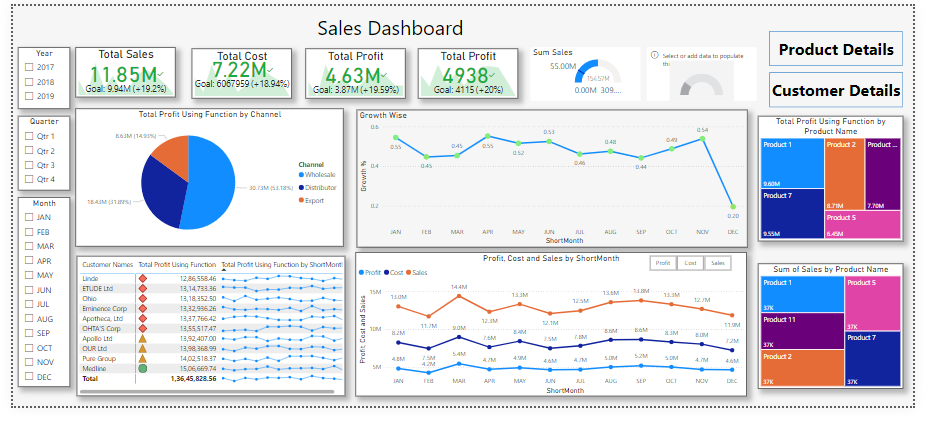

Layout of this report page (visuals, bound fields, positions):
{"tool":"powerbi","page":{"name":"Page 5","canvas":[1800,800],"ordinal":5},"visuals":[{"type":"shape","box":[10.1,0,1489.5,82.8],"z":0},{"type":"slicer","title":"Year","fields":{"Values":["Dates.Date.Variation.Date Hierarchy.Year"]},"box":[9.8,82.9,103.9,123.6],"z":1000},{"type":"slicer","title":"Quarter","fields":{"Values":["Dates.Date.Variation.Date Hierarchy.Quarter"]},"box":[10,219,104,149],"z":2000},{"type":"slicer","title":"Month","fields":{"Values":["Dates.ShortMonth"]},"box":[10,382,104,379],"z":3000},{"type":"lineChart","title":"Growth Wise","fields":{"Category":["Dates.ShortMonth"],"Y":["Sales_Data.Growth %"]},"box":[686.7,208.3,781.7,275],"z":4000},{"type":"kpi","title":"Total Profit","fields":{"Indicator":["Sales_Data.Total Profit Using Function"],"TrendLine":["Dates.ShortMonth"],"Goal":["Sales_Data.LY(Profit)"]},"box":[586,84,200,100],"z":5000},{"type":"kpi","title":"Total Sales","fields":{"TrendLine":["Dates.ShortMonth"],"Goal":["Sales_Data.LY(Sales)"],"Indicator":["Sales_Data.Total Sales"]},"box":[126,82,200,100],"z":6000},{"type":"kpi","title":"Total Cost","fields":{"TrendLine":["Dates.ShortMonth"],"Indicator":["Sales_Data.Total Cost"],"Goal":["Sales_Data.LY(Cost)"]},"box":[358,84,200,100],"z":7000},{"type":"kpi","title":"Total Profit","fields":{"TrendLine":["Dates.ShortMonth"],"Indicator":["Sales_Data.Order Quantity"],"Goal":["Sales_Data.LY(Quantity)"]},"box":[810,84,200,100],"z":8000},{"type":"pieChart","fields":{"Y":["Sales_Data.Total Profit Using Function"],"Category":["Sales_Data.Channel"]},"box":[126,206,536,276],"z":9000},{"type":"pivotTable","fields":{"Rows":["Customer_Data.Customer Names"],"Values":["Sales_Data.Total Profit Using Function","SparklineData(Sales_Data.Total Profit Using Function_[Dates.ShortMonth])"]},"box":[126.7,500,536.7,280],"z":10000},{"type":"shape","box":[1512.5,132.5,267.5,70],"z":11000},{"type":"gauge","fields":{"Y":["Sales_Data.Sum Sales"]},"box":[1035.7,81.4,220,107.1],"z":12000},{"type":"gauge","box":[1268.6,82.9,220,107.1],"z":13000},{"type":"lineChart","fields":{"Y":["Sales_Data.Total Profit Using Function","Sales_Data.Sum Cost","Sales_Data.Sum Sales"],"Category":["Dates.ShortMonth"]},"box":[686,492,782,288],"z":14000},{"type":"slicer","fields":{"Values":["Parameter.Parameter"]},"box":[1247.1,491.4,212.9,42.9],"z":15000},{"type":"treemap","fields":{"Group":["Products_Data.Product Name"],"Values":["Sales_Data.Total Profit Using Function"]},"box":[1490,220,290,250],"z":16000},{"type":"treemap","fields":{"Group":["Products_Data.Product Name"],"Values":["Append1.Sales"]},"box":[1490,514,290,250],"z":17000},{"type":"shape","box":[1512.5,50,267.5,70],"z":18000}]}

Visuals, with their boxes in screenshot pixels (x1, y1, x2, y2):
shape: BBox(17, 5, 757, 46)
"Year" slicer: BBox(17, 46, 69, 107)
"Quarter" slicer: BBox(17, 114, 69, 188)
"Month" slicer: BBox(17, 195, 69, 383)
"Growth Wise" lineChart: BBox(353, 108, 742, 245)
"Total Profit" kpi: BBox(303, 47, 403, 96)
"Total Sales" kpi: BBox(75, 46, 174, 95)
"Total Cost" kpi: BBox(190, 47, 289, 96)
"Total Profit" kpi: BBox(415, 47, 514, 96)
pieChart - Sales_Data.Total Profit Using Function x Sales_Data.Channel: BBox(75, 107, 341, 244)
pivotTable - Customer_Data.Customer Names x Sales_Data.Total Profit Using Function: BBox(75, 253, 342, 392)
shape: BBox(764, 71, 896, 105)
gauge - Sales_Data.Sum Sales: BBox(527, 45, 636, 99)
gauge: BBox(642, 46, 752, 99)
lineChart - Sales_Data.Total Profit Using Function x Sales_Data.Sum Cost: BBox(353, 249, 741, 392)
slicer - Parameter.Parameter: BBox(632, 249, 737, 270)
treemap - Products_Data.Product Name x Sales_Data.Total Profit Using Function: BBox(752, 114, 896, 238)
treemap - Products_Data.Product Name x Append1.Sales: BBox(752, 260, 896, 384)
shape: BBox(764, 30, 896, 65)
